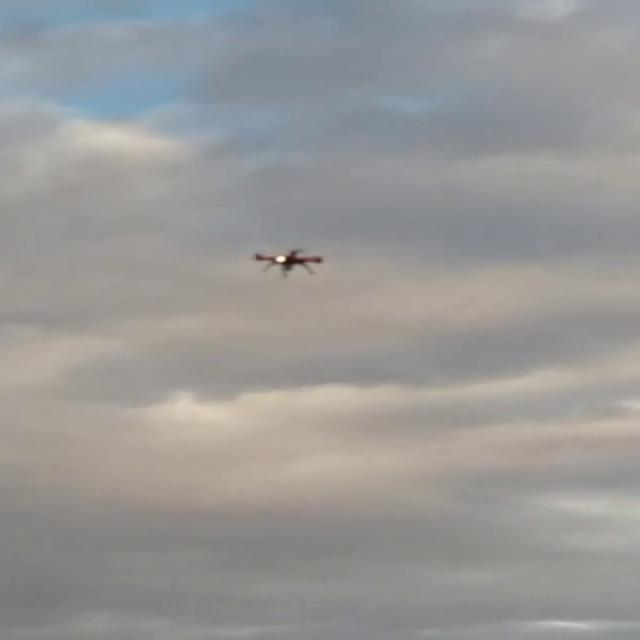drone: (248, 246, 330, 280)
